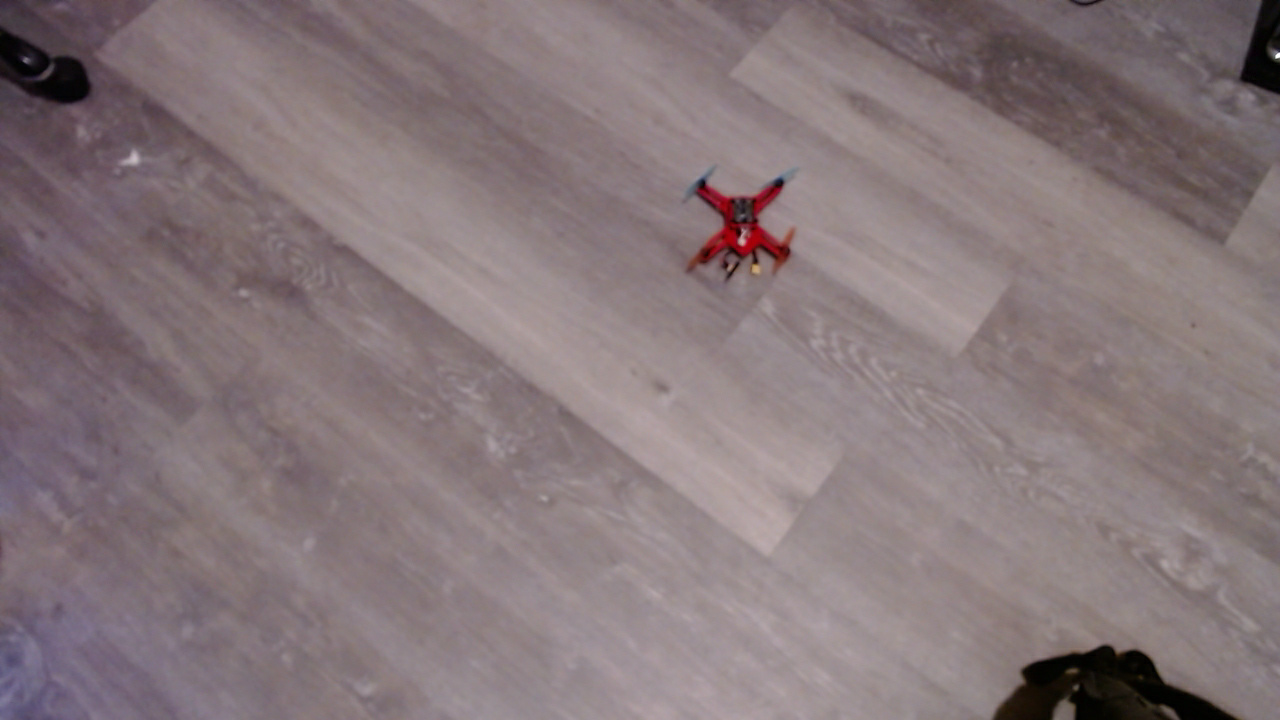crazyflie: (677, 170, 815, 297)
